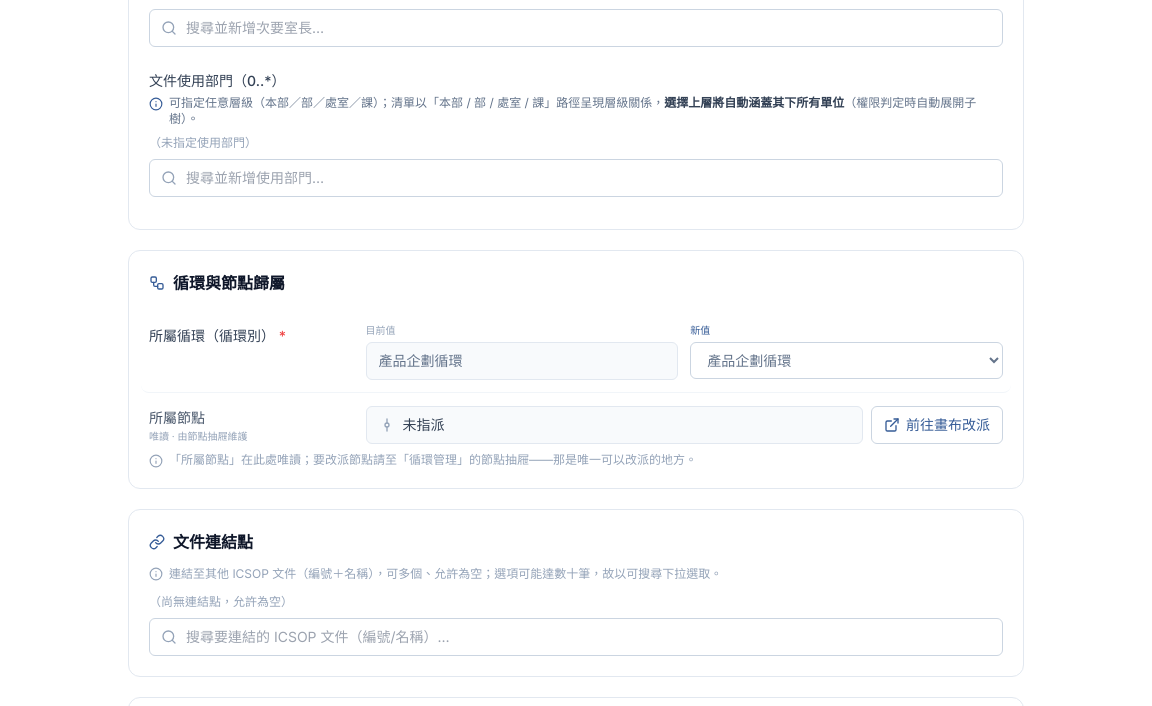
Test case: DocumentEditPage — F011 AC-S1 未選子分類即儲存被擋（AC-21） › 由無子分類之名稱改選為有子分類之名稱、未選第二段 → 不呼叫 updateDocument
The width and height of the screenshot is (1152, 706).
(page scrolled)
Select "銷售及收款循環" in the dropdown named "所屬循環－循環名稱" at (847, 360), box [690,342,1003,379]
(page scrolled)
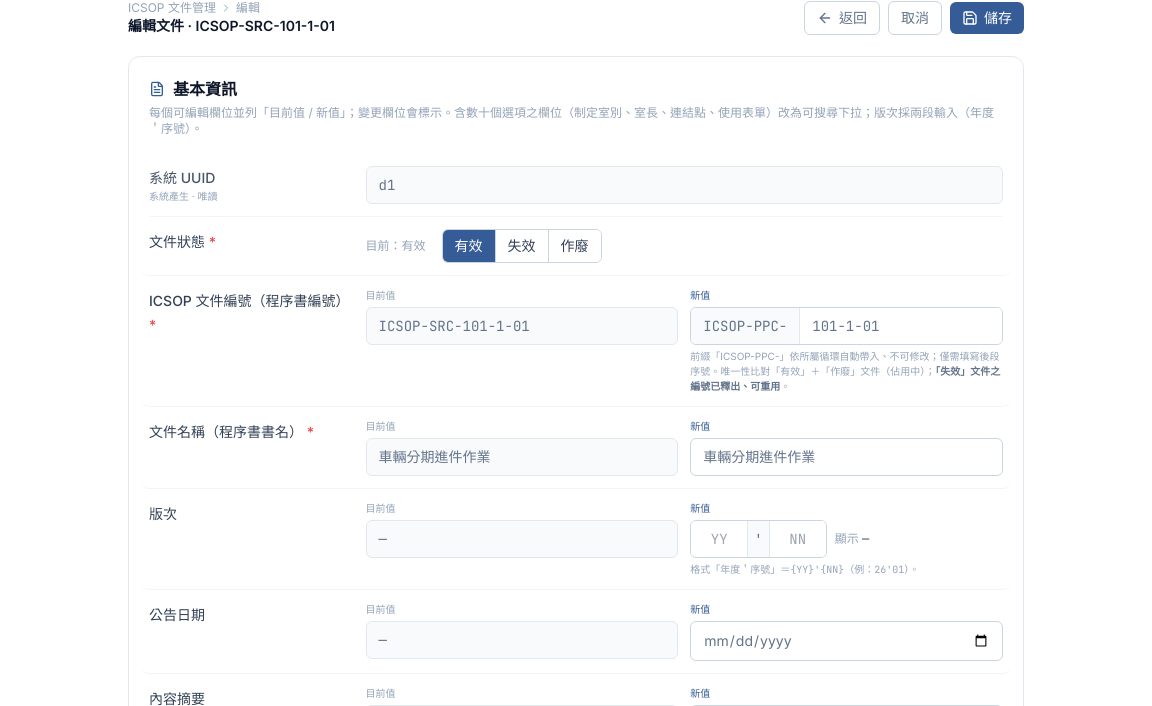
Click the button "儲存".
click(987, 18)  # box [950,2,1024,34]
(page scrolled)
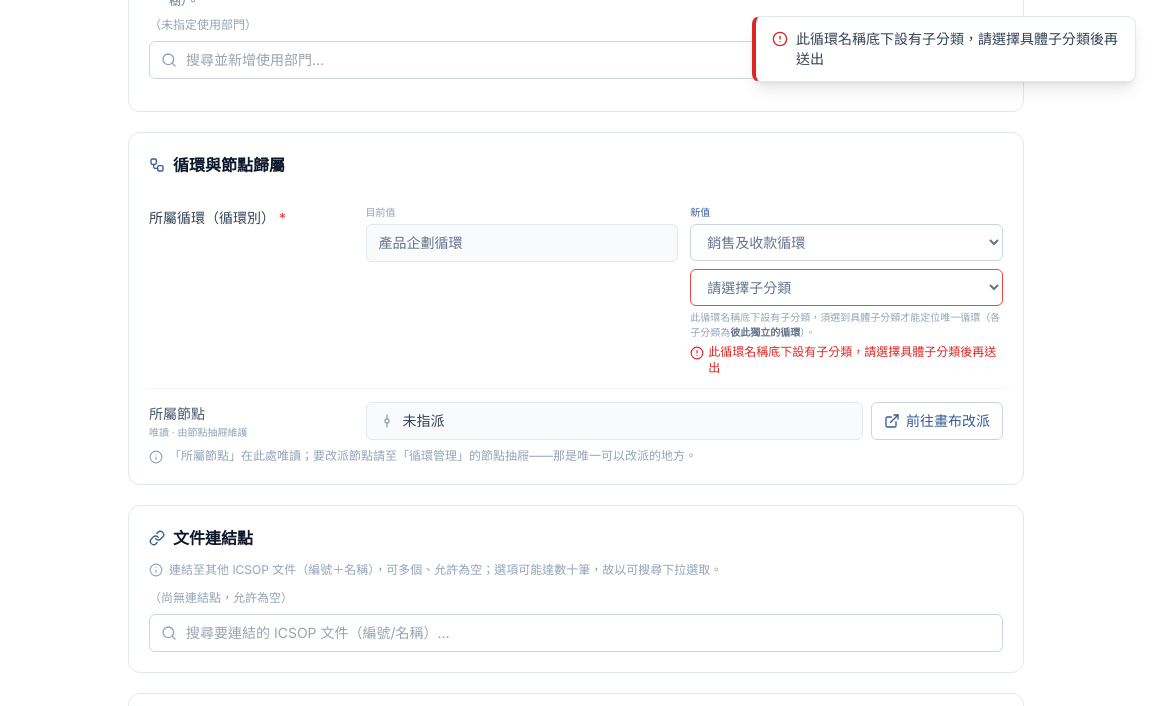
Result: the text "此循環名稱底下設有子分類，請選擇具體子分類後再送出" below "彼此獨立的循環" is shown at [708,344,996,375]
